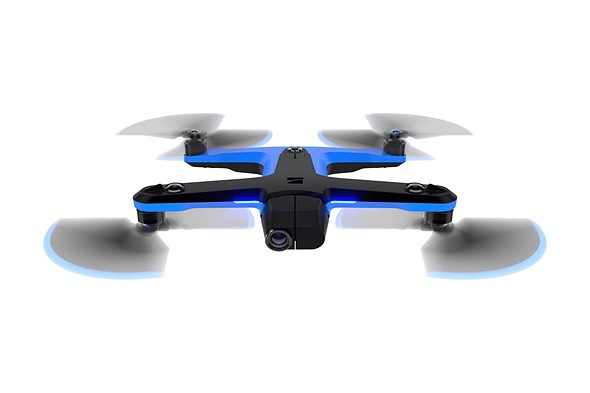drone: (39, 102, 551, 288)
